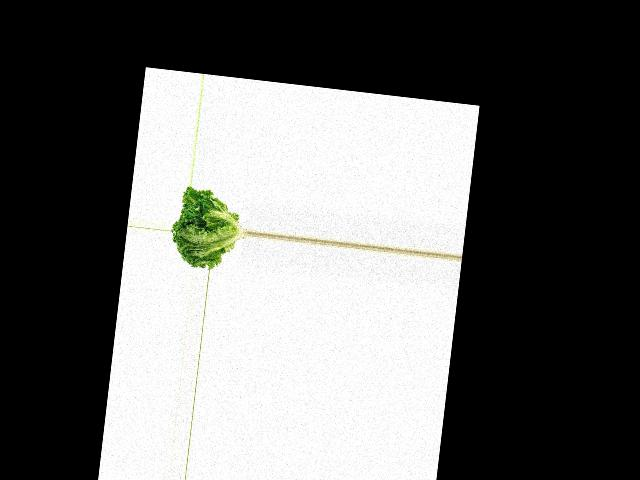lettuce: (168, 185, 251, 273)
